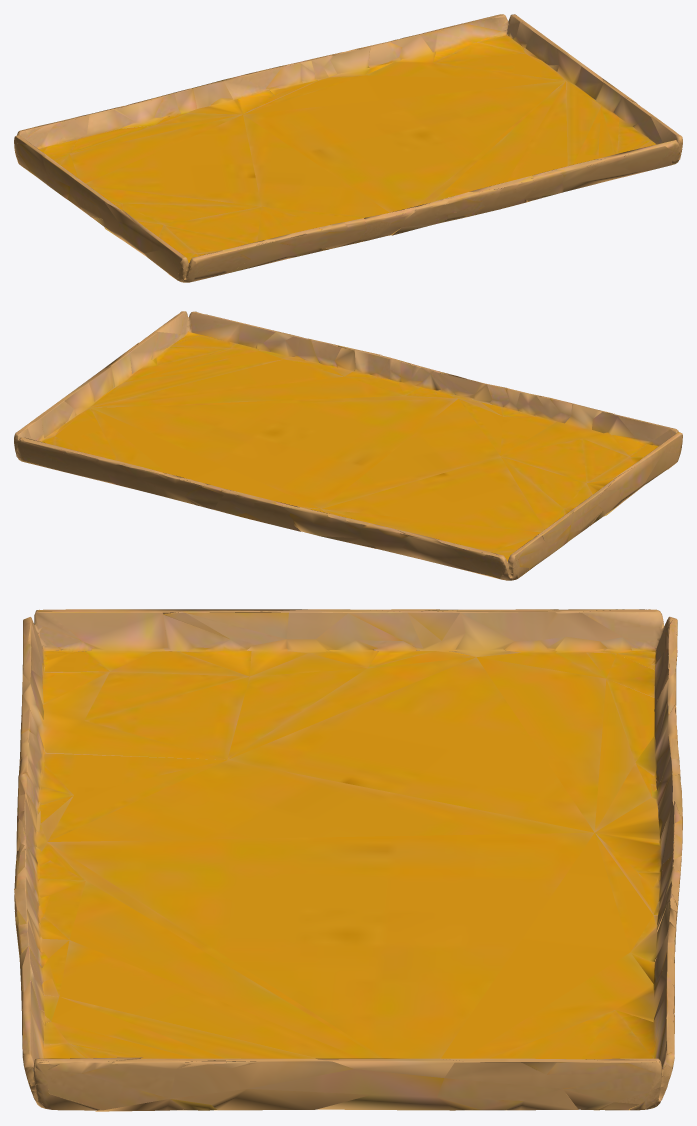
The model's file is sticky_trap.glb.
3 views of the same model, one above another, from view 1: azimuth 30°, elevation 25°; view 2: azimuth 150°, elevation 25°; view 3: azimuth 270°, elevation 25° (orthographic). The views are drawn at different scales.
Visible parts, largest first — view 1: sticky_trap; view 2: sticky_trap; view 3: sticky_trap.
Part boxes in pixels (x1,y1,x2,y2): sticky_trap: (14,14,682,282); sticky_trap: (14,311,682,580); sticky_trap: (14,609,682,1111).
Bounding box in the file's own units: 0.6 × 0.0316 × 0.3733.
Materials: 1 (1 with a texture image).
